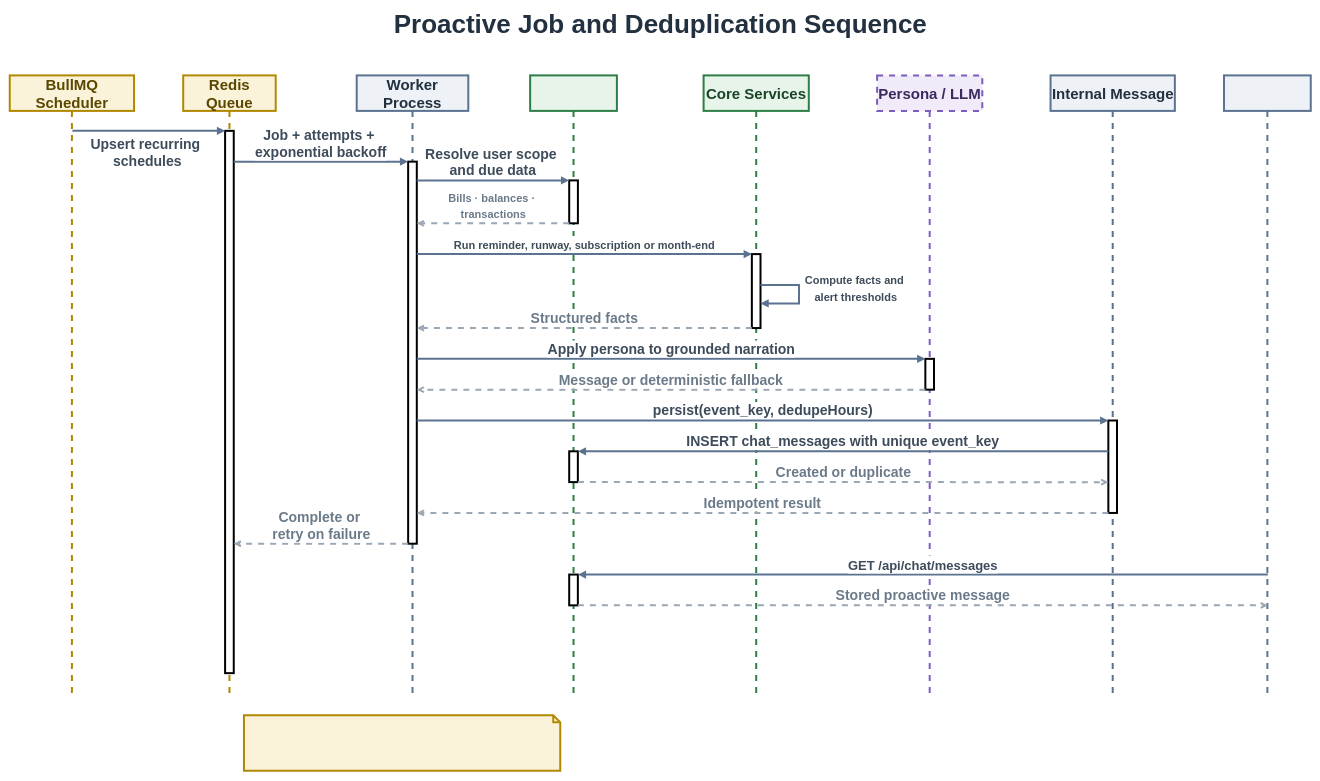
The diagram is 1320 pixels wide and 781 high, and some of its shapes have lost their labels. Here are the shapes that lost their labels. From the top down, the box of each, then its label:
(529, 74, 618, 699): PostgreSQL
(1223, 74, 1312, 699): Mobile App
(243, 714, 561, 772): If Redis fails, the worker stops safely while the interactive API continues
